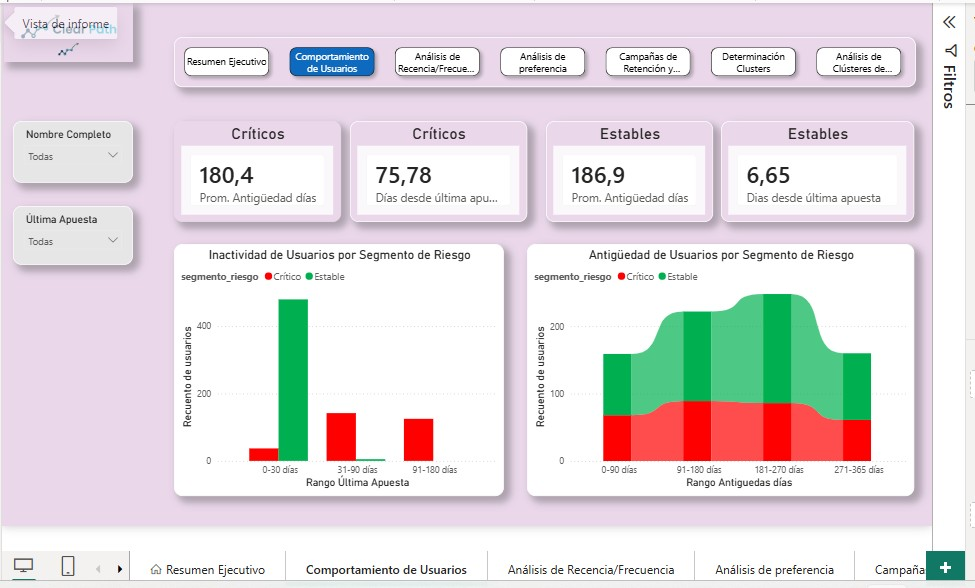

This screenshot's page, from the dashboard's own definition file:
{"tool":"powerbi","page":{"name":"Comportamiento de Usuarios","canvas":[1280,720],"ordinal":1},"visuals":[{"type":"cardVisual","title":"Críticos","fields":{"Data":["churn.Prom_Antiguedad_Criticos"]},"box":[236.7,162.4,229.8,139],"z":0},{"type":"cardVisual","title":"Estables","fields":{"Data":["churn.Prom_Antiguedad_Estables"]},"box":[748.7,162.4,229.8,139],"z":1000},{"type":"cardVisual","title":"Críticos","fields":{"Data":["churn.Prom_Ultima_Apuesta_Criticos"]},"box":[479,162.4,243.6,139],"z":2000},{"type":"cardVisual","title":"Estables","fields":{"Data":["churn.Prom_Ultima_Apuesta_Estables"]},"box":[989.6,162.4,265.6,139],"z":3000},{"type":"clusteredColumnChart","title":"Inactividad de Usuarios por Segmento de Riesgo","fields":{"Category":["churn.Rango_Ultima_Apuesta"],"Y":["CountNonNull(churn.id_usuario)"],"Series":["churn.segmento_riesgo"]},"box":[236.7,331.7,454.2,346.8],"z":4000},{"type":"ribbonChart","title":"Antigüedad de Usuarios por Segmento de Riesgo","fields":{"Y":["CountNonNull(churn.id_usuario)"],"Series":["churn.segmento_riesgo"],"Category":["churn.Rango_Antiguedad"]},"box":[722.6,331.7,533,347],"z":5000},{"type":"pageNavigator","box":[236.7,46.8,1021.2,68.8],"z":6000},{"type":"slicer","fields":{"Values":["churn.Nombre_Completo"]},"box":[15.1,162.4,165.2,85.3],"z":7000},{"type":"slicer","fields":{"Values":["churn.dias_desde_ultima_apuesta"]},"box":[15.1,279.4,165.2,81.2],"z":8000},{"type":"image","box":[2.8,0,177.5,81.2],"z":9000}]}

Visuals, with their boxes on the page's 1280x720 design canvas (x1, y1, x2, y2). These are canvas units, not pixel positions in the 975x588 screenshot, which may show the page scaled, cropped or inside an application window:
"Críticos" cardVisual: bbox(237, 162, 466, 301)
"Estables" cardVisual: bbox(749, 162, 978, 301)
"Críticos" cardVisual: bbox(479, 162, 723, 301)
"Estables" cardVisual: bbox(990, 162, 1255, 301)
"Inactividad de Usuarios por Segmento de Riesgo" clusteredColumnChart: bbox(237, 332, 691, 678)
"Antigüedad de Usuarios por Segmento de Riesgo" ribbonChart: bbox(723, 332, 1256, 679)
pageNavigator: bbox(237, 47, 1258, 116)
slicer - churn.Nombre_Completo: bbox(15, 162, 180, 248)
slicer - churn.dias_desde_ultima_apuesta: bbox(15, 279, 180, 361)
image: bbox(3, 0, 180, 81)
